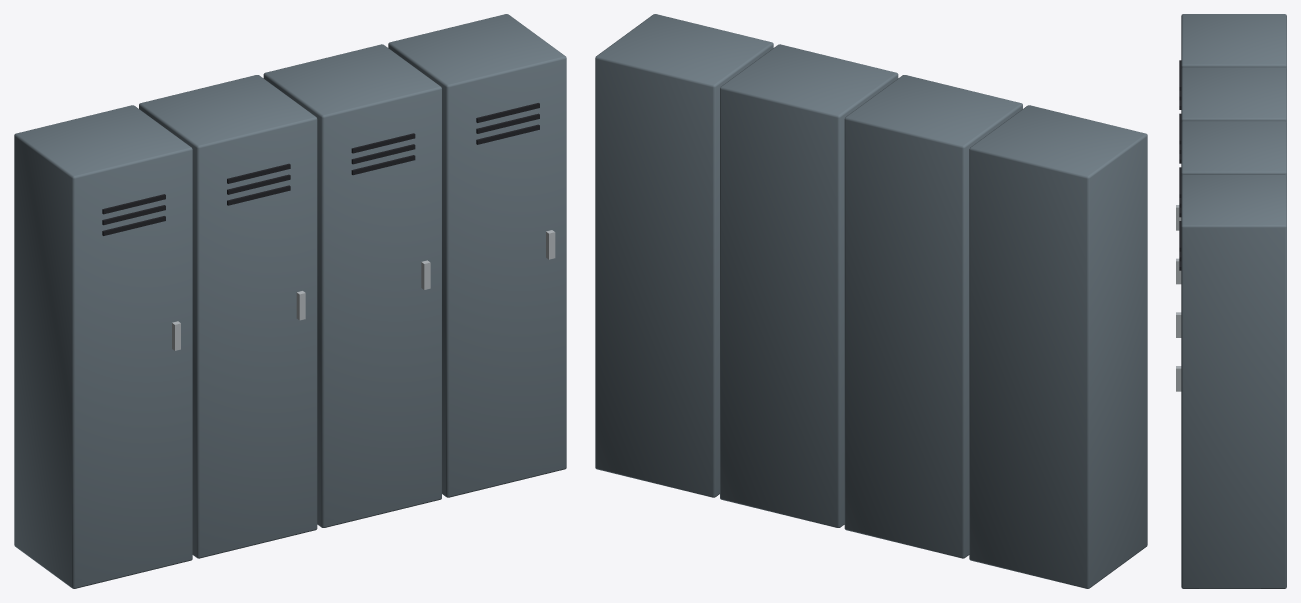
File: lockers.gltf
3 renders of one model, left to right at view 1: azimuth 30°, elevation 25°; view 2: azimuth 150°, elevation 25°; view 3: azimuth 270°, elevation 25°, orthographic. The views are drawn at different scales.
Visible parts, largest first — view 1: lockers_mesh; view 2: lockers_mesh; view 3: lockers_mesh.
Part boxes in pixels (x1,y1,x2,y2): lockers_mesh: (14,14,566,588); lockers_mesh: (595,14,1147,588); lockers_mesh: (1176,14,1286,588).
Size of the model in its own units: 2.38 by 1.9 by 0.525.
